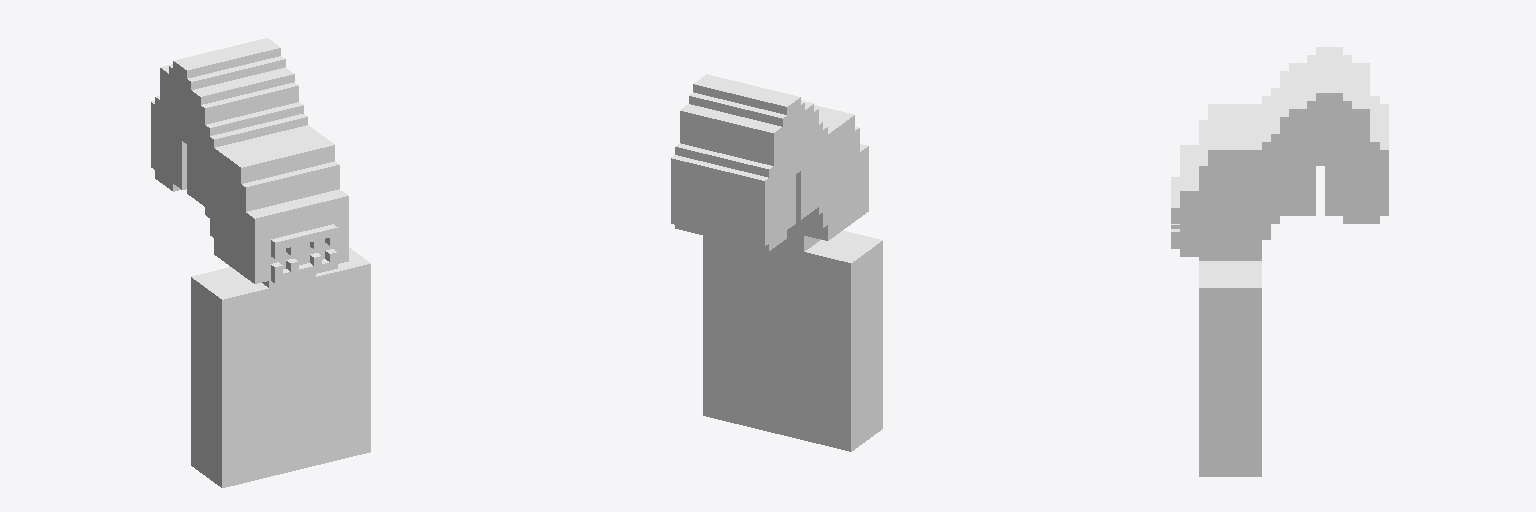
Rendered from mob-2.obj.
3 views of the same model, side by side, from view 1: azimuth 30°, elevation 25°; view 2: azimuth 150°, elevation 25°; view 3: azimuth 270°, elevation 25° (orthographic).
Visible parts, largest first — view 1: object 1; view 2: object 1; view 3: object 1.
Part boxes in pixels (x1,y1,x2,y2): object 1: (151, 38, 370, 487); object 1: (671, 74, 882, 451); object 1: (1171, 47, 1388, 476).
Size of the model in its own units: 1.9 by 4.5 by 2.4.